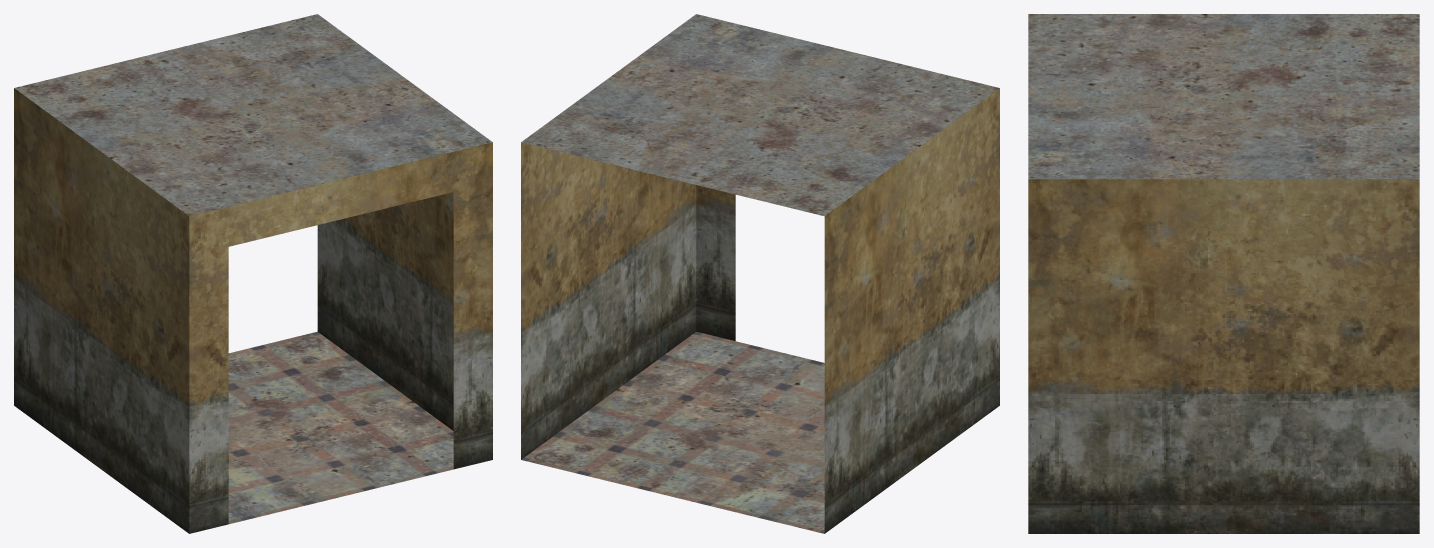
File: _Corridor_part20.FBX
The picture shows the model from 3 angles, left to right: view 1: azimuth 30°, elevation 25°; view 2: azimuth 150°, elevation 25°; view 3: azimuth 270°, elevation 25°; orthographic projection. The views are drawn at different scales.
Visible parts, largest first — view 1: Corridor_Part020; view 2: Corridor_Part020; view 3: Corridor_Part020.
Boxes of the visible parts, box(x1,y1,x2,y2) form: Corridor_Part020: box(14, 14, 492, 533); Corridor_Part020: box(521, 14, 999, 533); Corridor_Part020: box(1028, 14, 1419, 533).
Bounding box in the file's own units: 254 × 254 × 254.
Materials: 3 (3 with a texture image).
